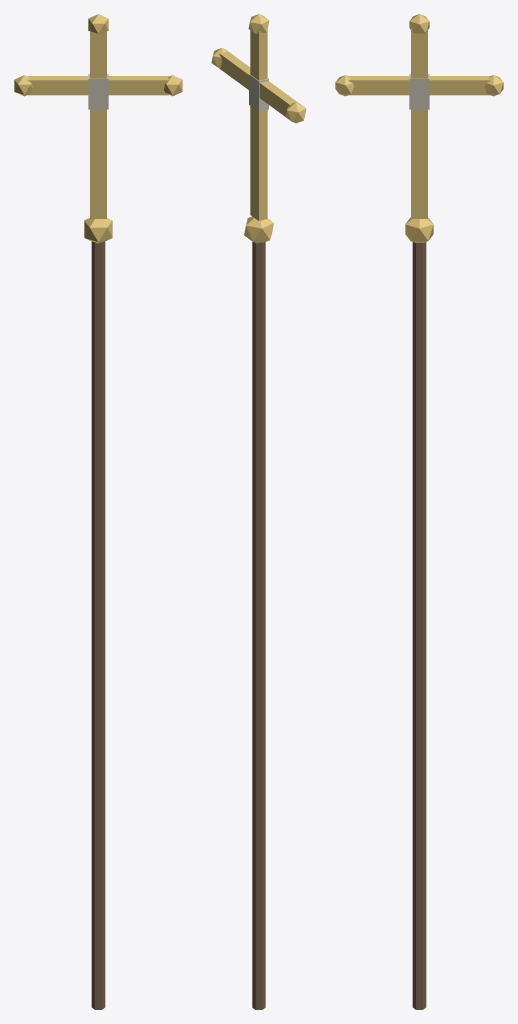
File: procession_cross.glb
3 views of the same model, side by side, from view 1: azimuth 90°, elevation 25°; view 2: azimuth 210°, elevation 25°; view 3: azimuth 270°, elevation 25° (orthographic).
Visible parts, largest first — view 1: procession_cross; view 2: procession_cross; view 3: procession_cross.
Boxes of the visible parts, bbox=[...] form: procession_cross: bbox=[14, 14, 182, 1009]; procession_cross: bbox=[211, 14, 306, 1009]; procession_cross: bbox=[335, 14, 503, 1009].
Bounding box in the file's own units: 0.0894 × 3.25 × 0.4995.
